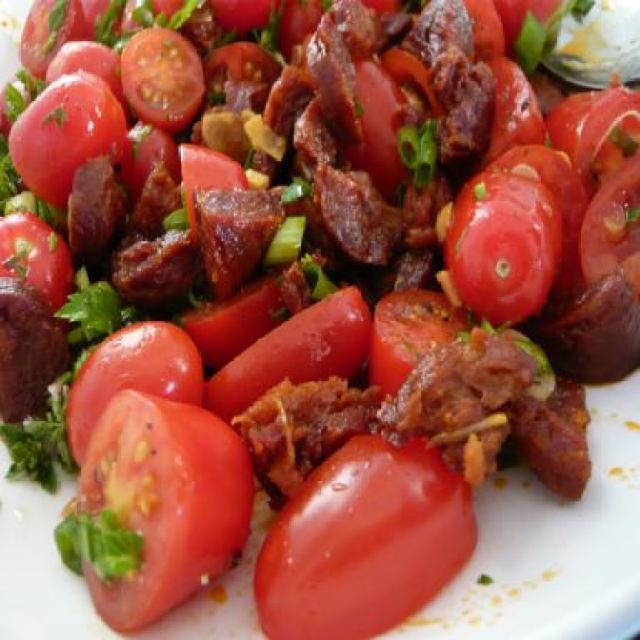Tomato: (250, 440, 481, 632), (79, 390, 256, 628), (196, 290, 372, 422), (70, 321, 202, 470), (446, 169, 566, 329), (9, 72, 123, 206), (368, 288, 474, 404), (176, 270, 287, 368), (121, 28, 205, 136), (581, 150, 640, 292), (0, 212, 75, 313), (180, 143, 248, 249), (44, 41, 124, 105), (200, 38, 282, 96)
